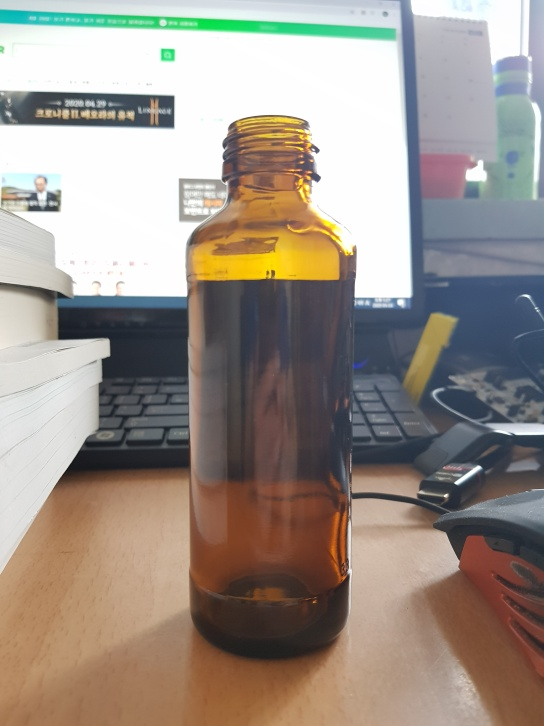Glass: (181, 114, 354, 659)
